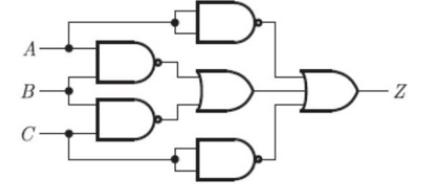nand: (90, 37, 165, 89), (92, 94, 164, 148), (190, 0, 264, 51), (192, 135, 264, 187)
or: (296, 63, 365, 121), (192, 63, 258, 117)
